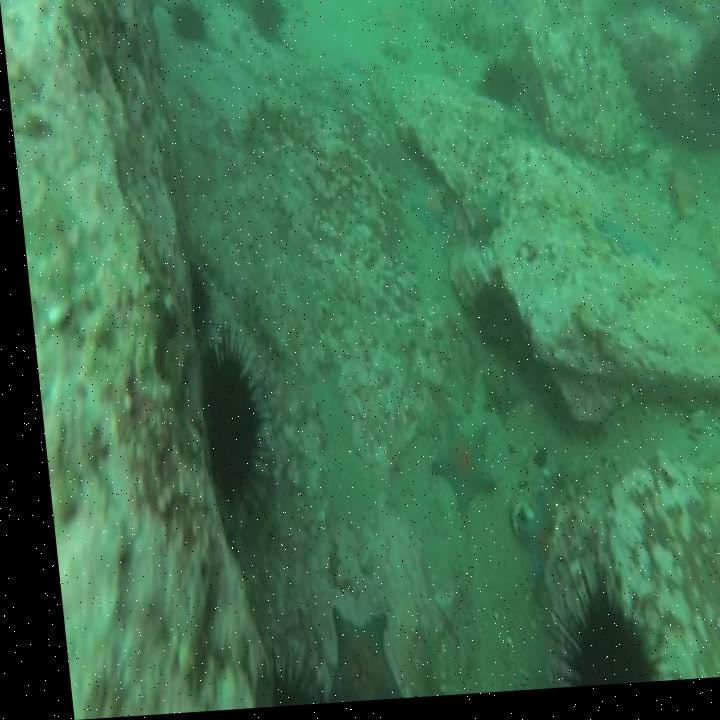echinus: (196, 355, 254, 505), (545, 596, 633, 692), (460, 280, 527, 373), (180, 262, 209, 340), (173, 3, 211, 50), (482, 68, 520, 114), (249, 0, 284, 46)
holothurian: (605, 52, 647, 141), (247, 102, 312, 149), (699, 323, 720, 432), (365, 61, 395, 129), (471, 19, 519, 59), (426, 6, 467, 46), (381, 38, 407, 69)
starfish: (311, 610, 383, 706), (425, 414, 487, 522), (591, 210, 656, 269), (509, 508, 546, 596), (406, 191, 448, 239), (475, 374, 510, 430), (469, 199, 498, 245), (374, 4, 407, 36)
